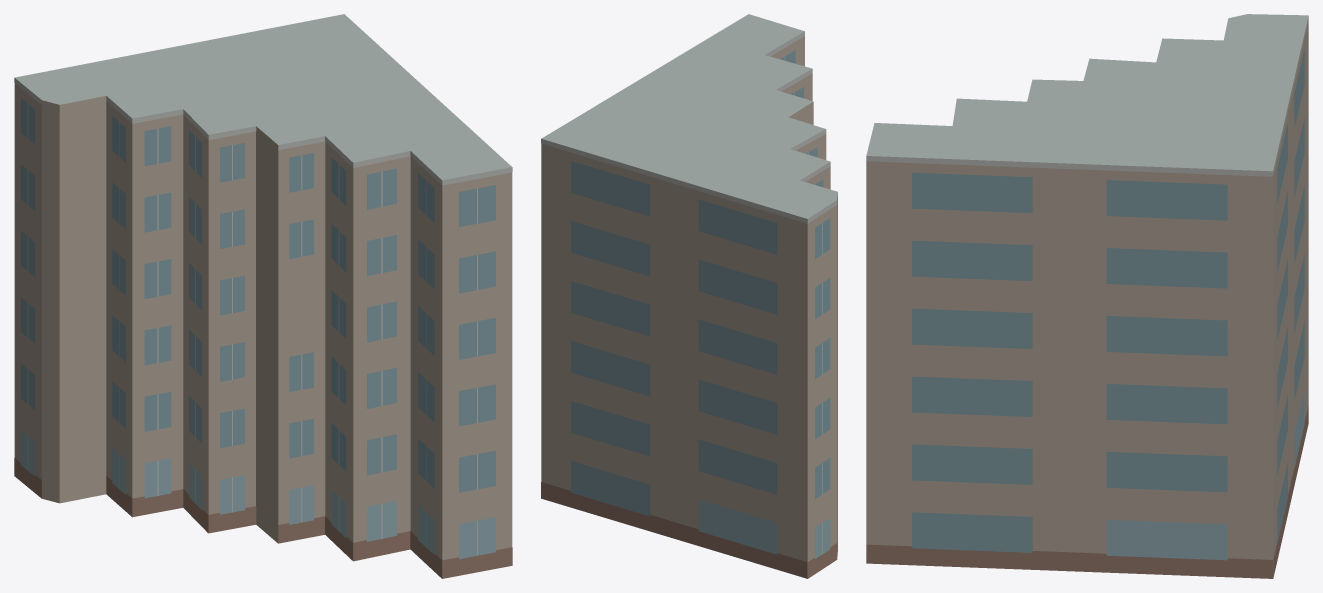
File: survey-upis-32736106.glb
3 renders of one model, left to right at view 1: azimuth 30°, elevation 25°; view 2: azimuth 150°, elevation 25°; view 3: azimuth 270°, elevation 25°, orthographic. The views are drawn at different scales.
Visible parts, largest first — view 1: survey-upis-32736106.tmp; view 2: survey-upis-32736106.tmp; view 3: survey-upis-32736106.tmp.
Boxes of the visible parts, left/top/right/bottom form: survey-upis-32736106.tmp: left=14, top=14, right=512, bottom=578; survey-upis-32736106.tmp: left=541, top=14, right=837, bottom=578; survey-upis-32736106.tmp: left=866, top=14, right=1308, bottom=578.
Bounding box in the file's own units: 15.16 × 18.3 × 18.01.
